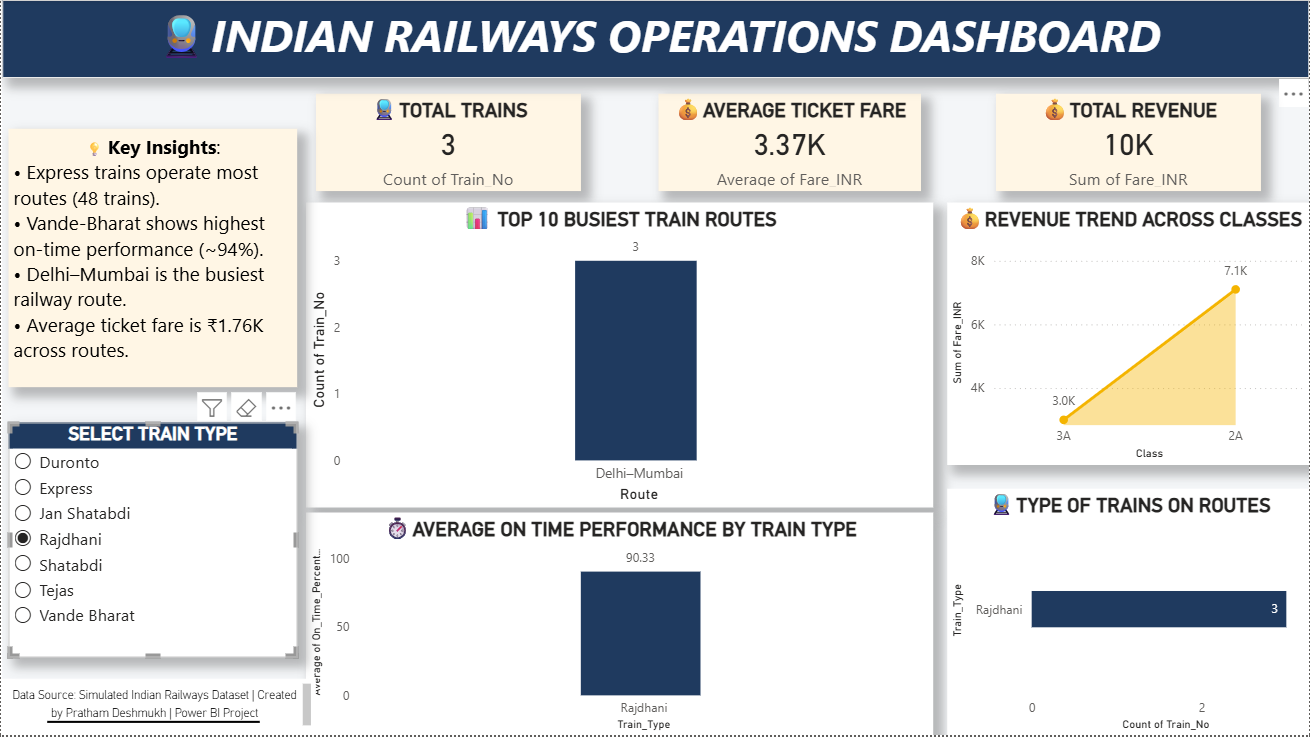

This screenshot's page, from the dashboard's own definition file:
{"tool":"powerbi","page":{"name":"OVERVIEW","canvas":[1280,720],"ordinal":0},"visuals":[{"type":"shape","box":[1.2,0,1279.1,721.5],"z":0},{"type":"card","title":"🚆TOTAL TRAINS ","fields":{"Values":["CountNonNull(Trains_Data.Train_No)"]},"box":[308.2,91.7,259.2,95.4],"z":1000},{"type":"card","title":"💰AVERAGE TICKET FARE ","fields":{"Values":["Avg(Trains_Data.Fare_INR)"]},"box":[643.2,91.7,256.8,95.4],"z":2000},{"type":"clusteredColumnChart","title":"📊 TOP 10 BUSIEST TRAIN ROUTES ","fields":{"Category":["Trains_Data.Route"],"Y":["CountNonNull(Trains_Data.Train_No)"]},"box":[298.3,197.7,613.6,298.3],"z":3000},{"type":"clusteredColumnChart","title":"⏱️AVERAGE ON TIME PERFORMANCE BY TRAIN TYPE","fields":{"Category":["Trains_Data.Train_Type"],"Y":["Avg(Trains_Data.On_Time_Percentage)"]},"box":[298.4,501.4,613.9,218.9],"z":4000},{"type":"textbox","box":[1.2,0,1279.1,75.8],"z":5000},{"type":"textbox","box":[7.3,126,282.5,253.1],"z":6000},{"type":"card","title":"💰TOTAL REVENUE ","fields":{"Values":["Sum(Trains_Data.Fare_INR)"]},"box":[973.4,91.7,259.2,95.4],"z":7000},{"type":"lineChart","title":"💰REVENUE TREND ACROSS CLASSES ","fields":{"Category":["Trains_Data.Class"],"Y":["Sum(Trains_Data.Fare_INR)"]},"box":[925.7,198.1,354.6,256.8],"z":8000},{"type":"listSlicer","title":"SELECT TRAIN TYPE","fields":{"Values":["Trains_Data.Train_Type"]},"box":[7.3,413.3,282.5,229.9],"z":9000},{"type":"textbox","box":[0,664,308.2,56.3],"z":10000},{"type":"shape","box":[45.2,692.1,207.9,28.1],"z":11000},{"type":"clusteredBarChart","title":"🚆TYPE OF TRAINS ON ROUTES","fields":{"Category":["Trains_Data.Train_Type"],"Y":["CountNonNull(Trains_Data.Train_No)"]},"box":[925.7,478.1,354.6,242.1],"z":12000}]}

Visuals, with their boxes in screenshot pixels (x1, y1, x2, y2), scaled from the page's 1280x720 canvas onto the 1310x737 screenshot:
shape: bbox(1, 0, 1309, 736)
"🚆TOTAL TRAINS " card: bbox(315, 94, 581, 192)
"💰AVERAGE TICKET FARE " card: bbox(658, 94, 921, 192)
"📊 TOP 10 BUSIEST TRAIN ROUTES " clusteredColumnChart: bbox(305, 202, 933, 508)
"⏱️AVERAGE ON TIME PERFORMANCE BY TRAIN TYPE" clusteredColumnChart: bbox(305, 513, 934, 736)
textbox: bbox(1, 0, 1309, 78)
textbox: bbox(7, 129, 297, 388)
"💰TOTAL REVENUE " card: bbox(996, 94, 1261, 192)
"💰REVENUE TREND ACROSS CLASSES " lineChart: bbox(947, 203, 1309, 466)
"SELECT TRAIN TYPE" listSlicer: bbox(7, 423, 297, 658)
textbox: bbox(0, 680, 315, 736)
shape: bbox(46, 708, 259, 736)
"🚆TYPE OF TRAINS ON ROUTES" clusteredBarChart: bbox(947, 489, 1309, 736)
